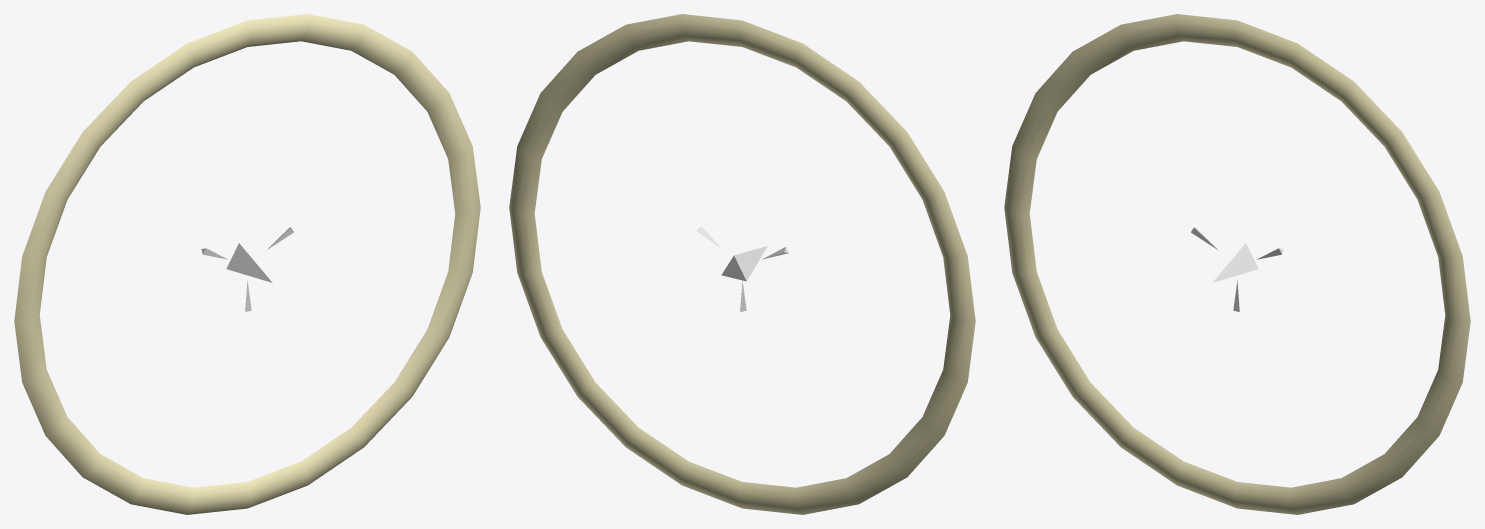
File: Checkpoint.FBX
The picture shows the model from 3 angles, left to right: view 1: azimuth 30°, elevation 25°; view 2: azimuth 150°, elevation 25°; view 3: azimuth 330°, elevation 25°; orthographic projection.
Parts seen in each view (by area): view 1: Torus01, Cone01; view 2: Torus01, Cone01; view 3: Torus01, Cone01.
Boxes of the visible parts, x1=… form: Torus01: x1=14, y1=14, x2=480, y2=514; Cone01: x1=226, y1=243, x2=272, y2=282; Torus01: x1=509, y1=14, x2=975, y2=514; Cone01: x1=721, y1=246, x2=767, y2=281; Torus01: x1=1004, y1=14, x2=1470, y2=514; Cone01: x1=1212, y1=243, x2=1258, y2=282.
Bounding box in the file's own units: 1249 × 1249 × 157.
